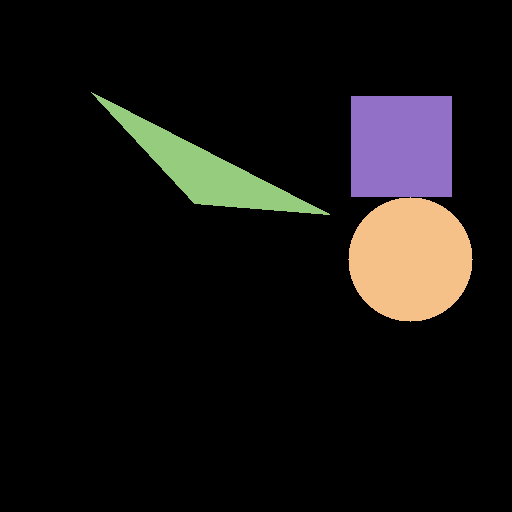circle: (351, 96, 471, 318)
triangle: (91, 92, 329, 214)
